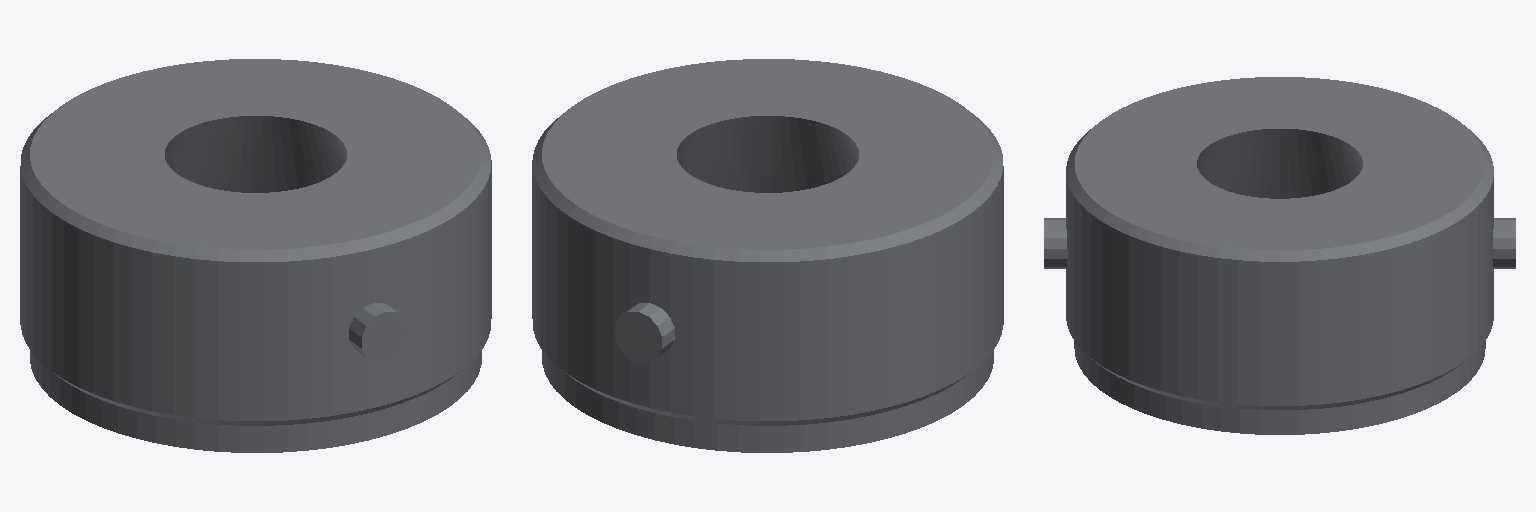
robot.urdf — tool_changer_sws011_tool:
<?xml version="1.0"?>
<!--
  Tool Changer SWS-011 — ツール側: 空圧ロボットツールチェンジャの自作アセット
  (CC0-1.0)。tool-changer-sws011-master.urdf と対で使う。

  ============================================================================
  参照実機: **SCHUNK SWS-011 / SWA-011-000-000**
    https://schunk.com/us/en/automation-technology/tool-changer/sws/swa-011-000-000/p/000000000000302317
  ============================================================================

  由来・STEP の扱い (CC BY-ND のため計測のみに使用し、メッシュは寸法から再著作) は
  マスタ側 URDF のヘッダと docs/step-measurements.md を参照。この板に固有の実測値:

    - 外径 **ø50** (実測 ø50.02 / 公表 ø50)
    - 板本体 **20.6 mm** = 結合面からツール面まで (実測 20.61 と公表 20.6 が一致)
    - **位置決めリング 3.19 mm** がマスタ側へ突き出す (マスタ結合面の凹みに入る)
    - **段付き受け穴 r 13.5 / 12.5 / 9.7** (マスタのカムボスを受ける)
    - **取付 "S7" = M5 めねじ 深さ8 x4 / ボルト円 ø40 / 45-135-225-315 度** (公式
      カタログで確定。STEP の ø4.2 は M5 ねじ下穴)
    - エア通し **6 ポート ø2.8 / ボルト円 ø35** (マスタと共通)
    - 質量 **0.09 kg**

  この板の役割は **インタフェースの中継**:
    ロボットフランジ -> [flange-plate-sws011] -> [master.mount .. master.coupling]
                     -> [tool.mount .. tool.flange] -> エンドエフェクタ

  上面 (flange) が提示するのは **S7 (4 x ø40 @45 度)** であって ISO 9409-1 ではない。
  実機どおりなので、ISO のツールを載せるにはアダプタプレートが要る。

  座標系 (botrail カタログ規約): Z-up / メートル。root リンク mount = マスタとの
  結合面 (+Z がツール側)。flange = ツール取付面 (z = 20.6 mm)。

  visual: tools/generate_meshes.py が生成する ../meshes/tool.stl (手続き的著作)
  collision: URDF プリミティブのみ (板 + 位置決めリング + 側面マニホールド)
-->
<robot name="tool_changer_sws011_tool">

  <link name="mount"/>

  <link name="body">
    <!--
      色: STL は材質を持てないので外観はここで述べる。述べないと消費側が
      リンクを既定パレット (studio は 8 色循環) で塗り、**同じ製品でもシーン内の
      並び順で色が変わる**。参照実機の公表資料に塗色の記載が無いため実機の色は
      主張せず、この種の部品として素直な地色を著作する。数値は **linear** で渡る
      (botrail は URDF の <color rgba> をそのまま Shape.color に載せ、studio は
      LinearSRGB として読む)。
    -->
    <visual>
      <geometry>
        <mesh filename="../meshes/tool.stl"/>
      </geometry>
      <material name="anodised_aluminium"><!-- アルマイト地のアルミ (ツール側。実機も同系色) -->
        <color rgba="0.50 0.51 0.53 1.0"/>
      </material>
    </visual>

    <collision><!-- locating ring, protrudes 3.19 mm toward the master -->
      <origin xyz="0 0 -0.0016"/>
      <geometry><cylinder radius="0.024" length="0.0032"/></geometry>
    </collision>
    <collision><!-- main plate ø50 x 20.6 (SWA-011) -->
      <origin xyz="0 0 0.0103"/>
      <geometry><cylinder radius="0.025" length="0.0206"/></geometry>
    </collision>
    <collision><!-- air manifold boss +y -->
      <origin xyz="0 0.026 0.0103" rpy="1.5708 0 0"/>
      <geometry><cylinder radius="0.003" length="0.0065"/></geometry>
    </collision>
    <collision><!-- air manifold boss -y -->
      <origin xyz="0 -0.026 0.0103" rpy="1.5708 0 0"/>
      <geometry><cylinder radius="0.003" length="0.0065"/></geometry>
    </collision>

    <!-- 質量 0.09 kg (公表値)。重心は STEP 実測 (mount 面から +10.44 mm)。
         慣性は ø50 x 23.8 の中実円柱近似 -->
    <inertial>
      <origin xyz="0 0 0.01044"/>
      <mass value="0.09"/>
      <inertia ixx="1.831e-5" ixy="0.0" ixz="0.0" iyy="1.831e-5" iyz="0.0" izz="2.813e-5"/>
    </inertial>
  </link>

  <!-- ツール取付面 (S7: 4 x ø4.2 / ボルト円 ø39.9)。ISO 9409-1 ではない -->
  <link name="flange"/>

  <joint name="body_joint" type="fixed">
    <parent link="mount"/>
    <child link="body"/>
  </joint>

  <joint name="flange_joint" type="fixed">
    <origin xyz="0 0 0.0206"/>
    <parent link="body"/>
    <child link="flange"/>
  </joint>

</robot>

--- Render facts (derived) ---
3 views of the same robot in one strip: view 1: azimuth 30°, elevation 25°; view 2: azimuth 150°, elevation 25°; view 3: azimuth 270°, elevation 25° (orthographic).
Model tool_changer_sws011_tool with 3 links and 2 joints (2 fixed), rooted at mount, posed every joint at zero.
Links seen in each view (by area): view 1: body; view 2: body; view 3: body.
Boxes of the visible links, bbox=[...] form: body: bbox=[20, 59, 491, 452]; body: bbox=[532, 59, 1003, 452]; body: bbox=[1044, 77, 1515, 434].
Bounding box of the posed robot: 0.05 × 0.055 × 0.0238 m (x, y, z).
1 mesh visuals loaded from 1 distinct referenced files (1 binary STL).
